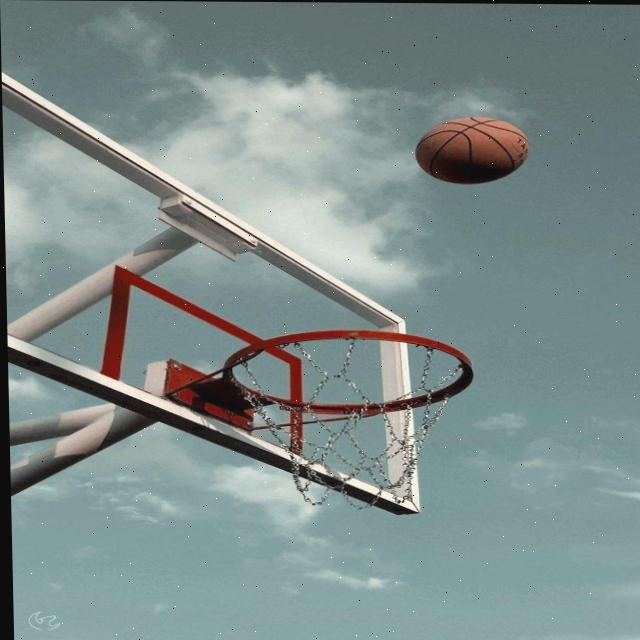hoop: (193, 324, 521, 496)
